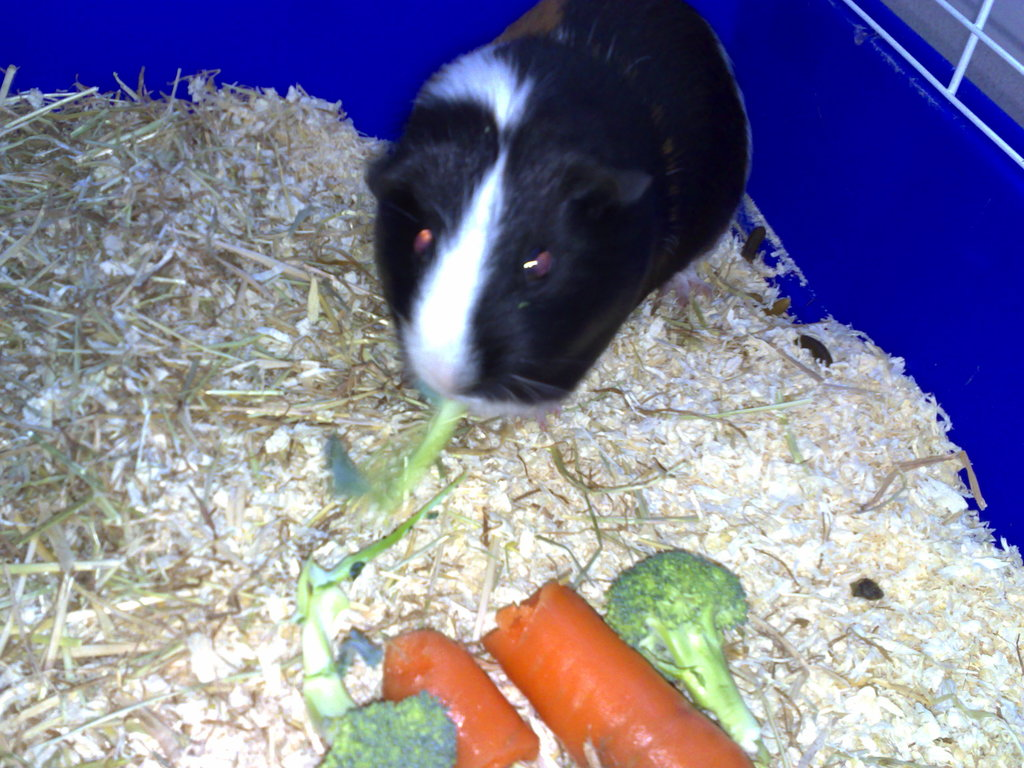Carrot: (480, 577, 758, 768), (381, 626, 542, 768)
